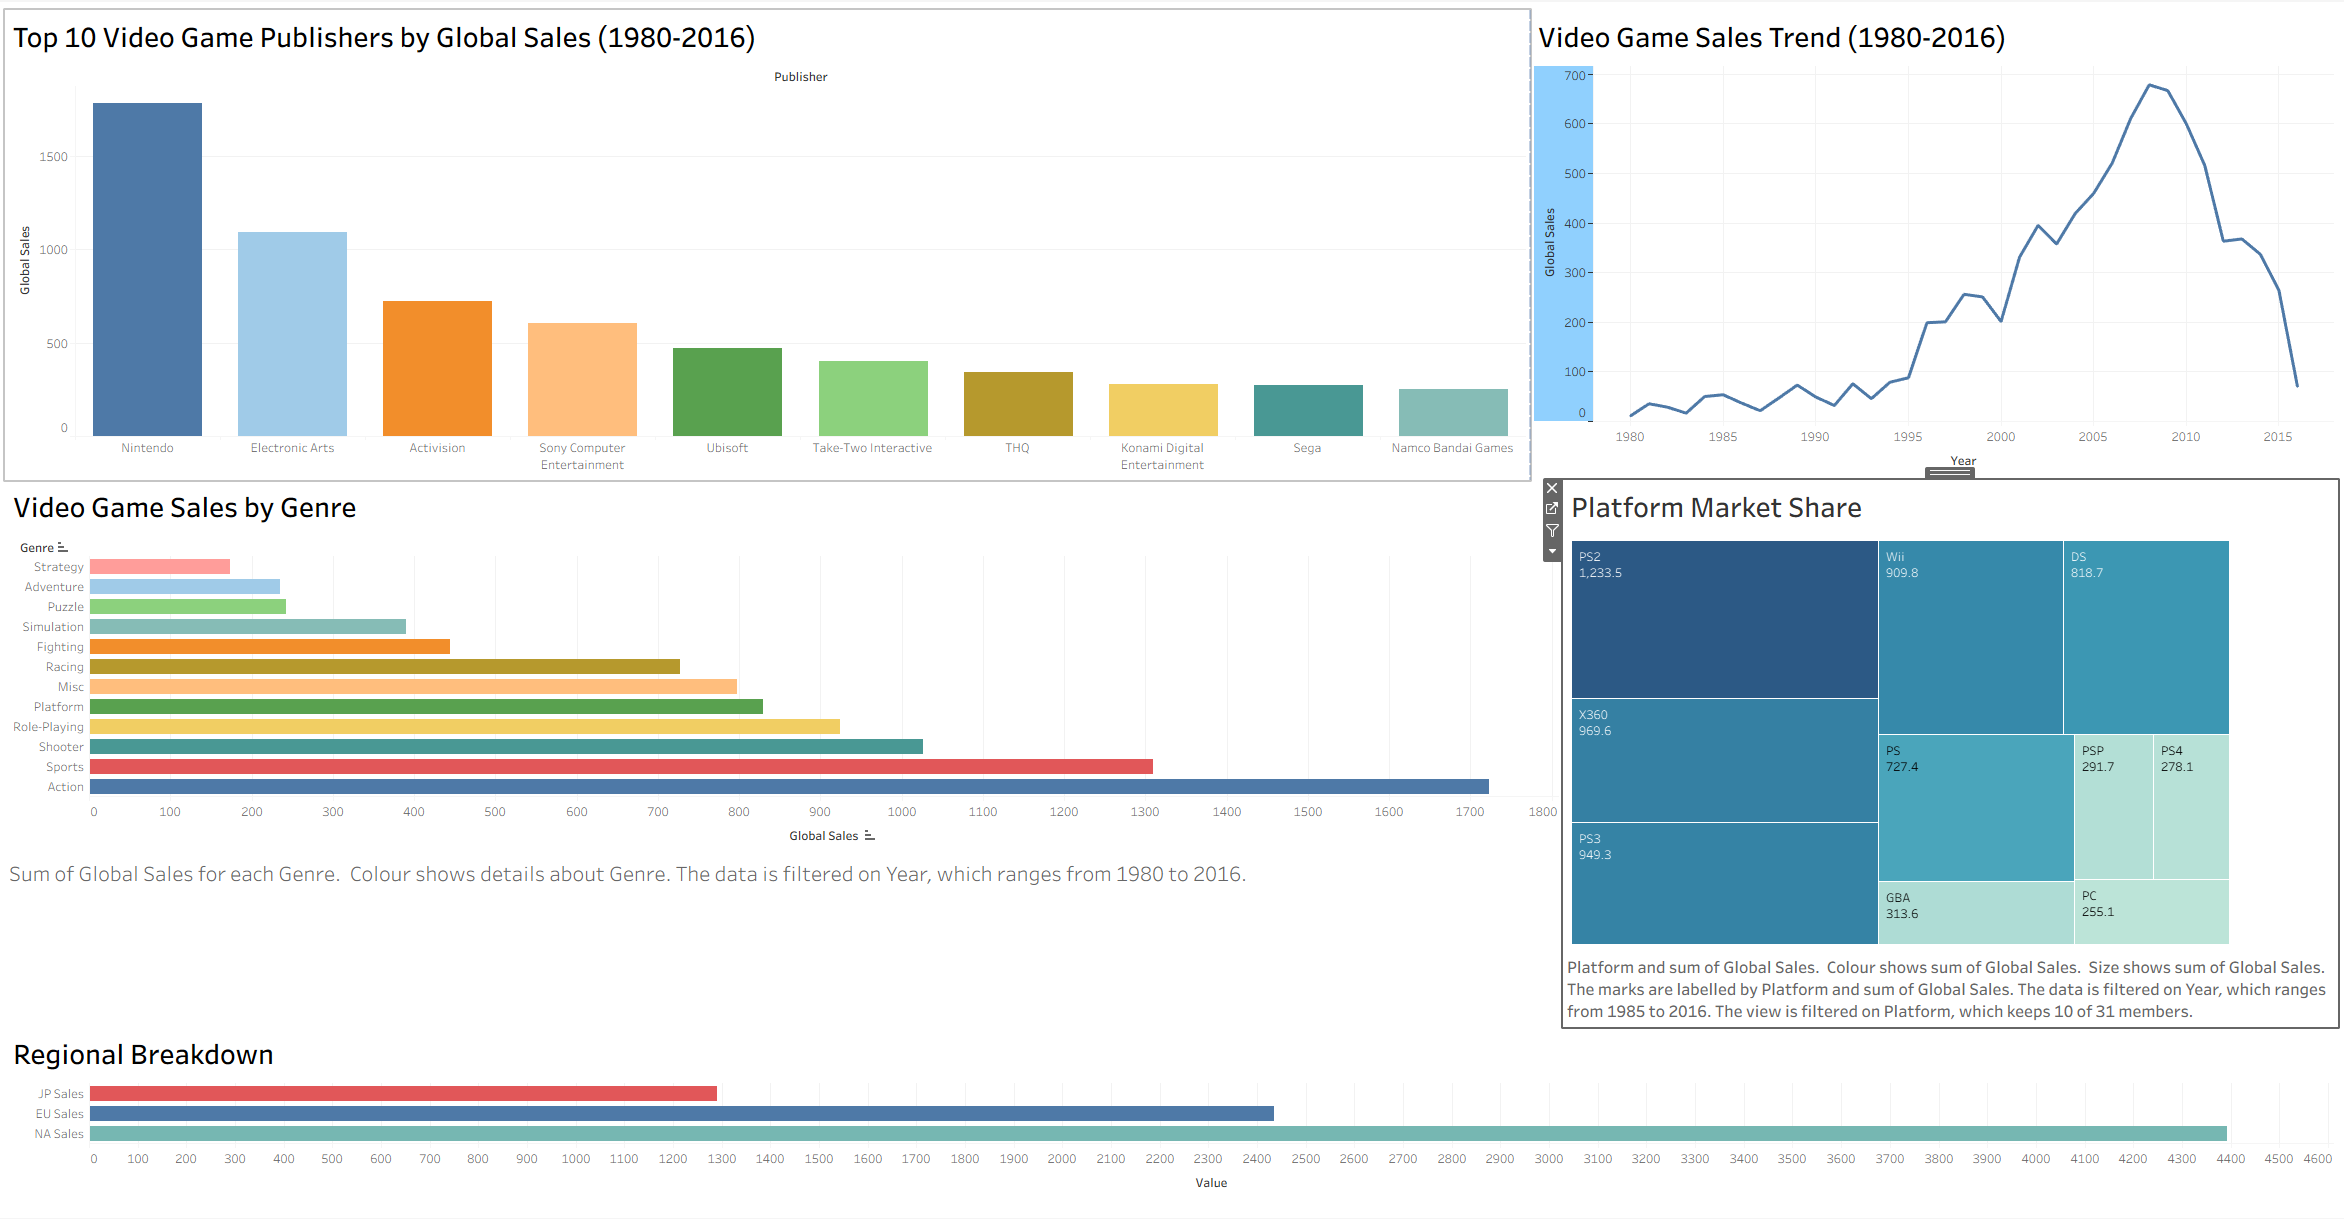

What the dashboard file says about the page in this screenshot:
{"tool":"tableau","page":{"name":"Dashboard 1","canvas":[1000,1000],"units":"permille","ordinal":0},"visuals":[{"type":"worksheet","title":"Sheet 1","mark":"Automatic","rows":["Global_Sales"],"cols":["Publisher"],"box":[3.4,6.6,649.2,386.5]},{"type":"worksheet","title":"Sheet 2","mark":"Line","rows":["Global_Sales"],"cols":["Year"],"box":[652.6,6.6,344,386.5]},{"type":"worksheet","title":"Sheet 3","mark":"Automatic","rows":["Genre"],"cols":["Global_Sales"],"box":[3.4,393.1,663.3,449.8]},{"type":"worksheet","title":"Sheet 4","mark":"Automatic","box":[666.7,393.1,329.9,449.8]},{"type":"worksheet","title":"Sheet 5","mark":"Automatic","box":[3.4,842.9,993.2,150.5]}]}

Visuals, with their boxes on the dashboard's canvas, which has no fixed pixel size, in thousandths of its width and height (x1, y1, x2, y2). These are canvas units, not pixel positions in the 2344x1219 screenshot, which may show the page scaled, cropped or inside an application window:
"Sheet 1" worksheet: 3/7/653/393
"Sheet 2" worksheet (Line marks): 653/7/997/393
"Sheet 3" worksheet: 3/393/667/843
"Sheet 4" worksheet: 667/393/997/843
"Sheet 5" worksheet: 3/843/997/993
